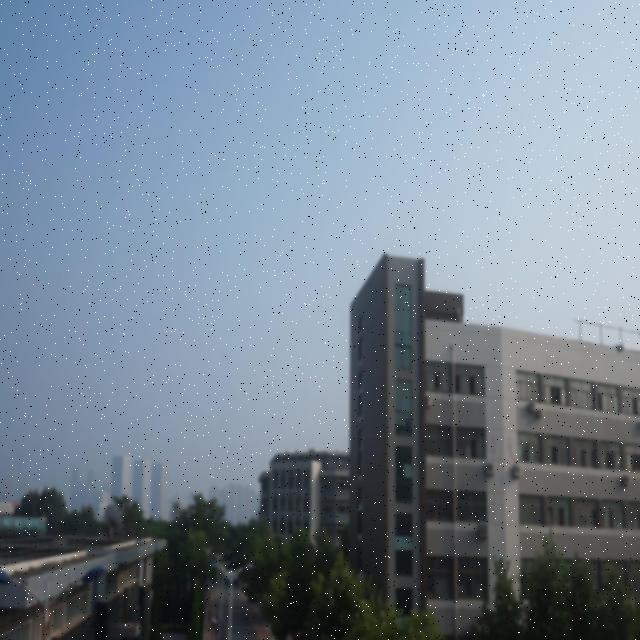UAV: (615, 343, 625, 356)
